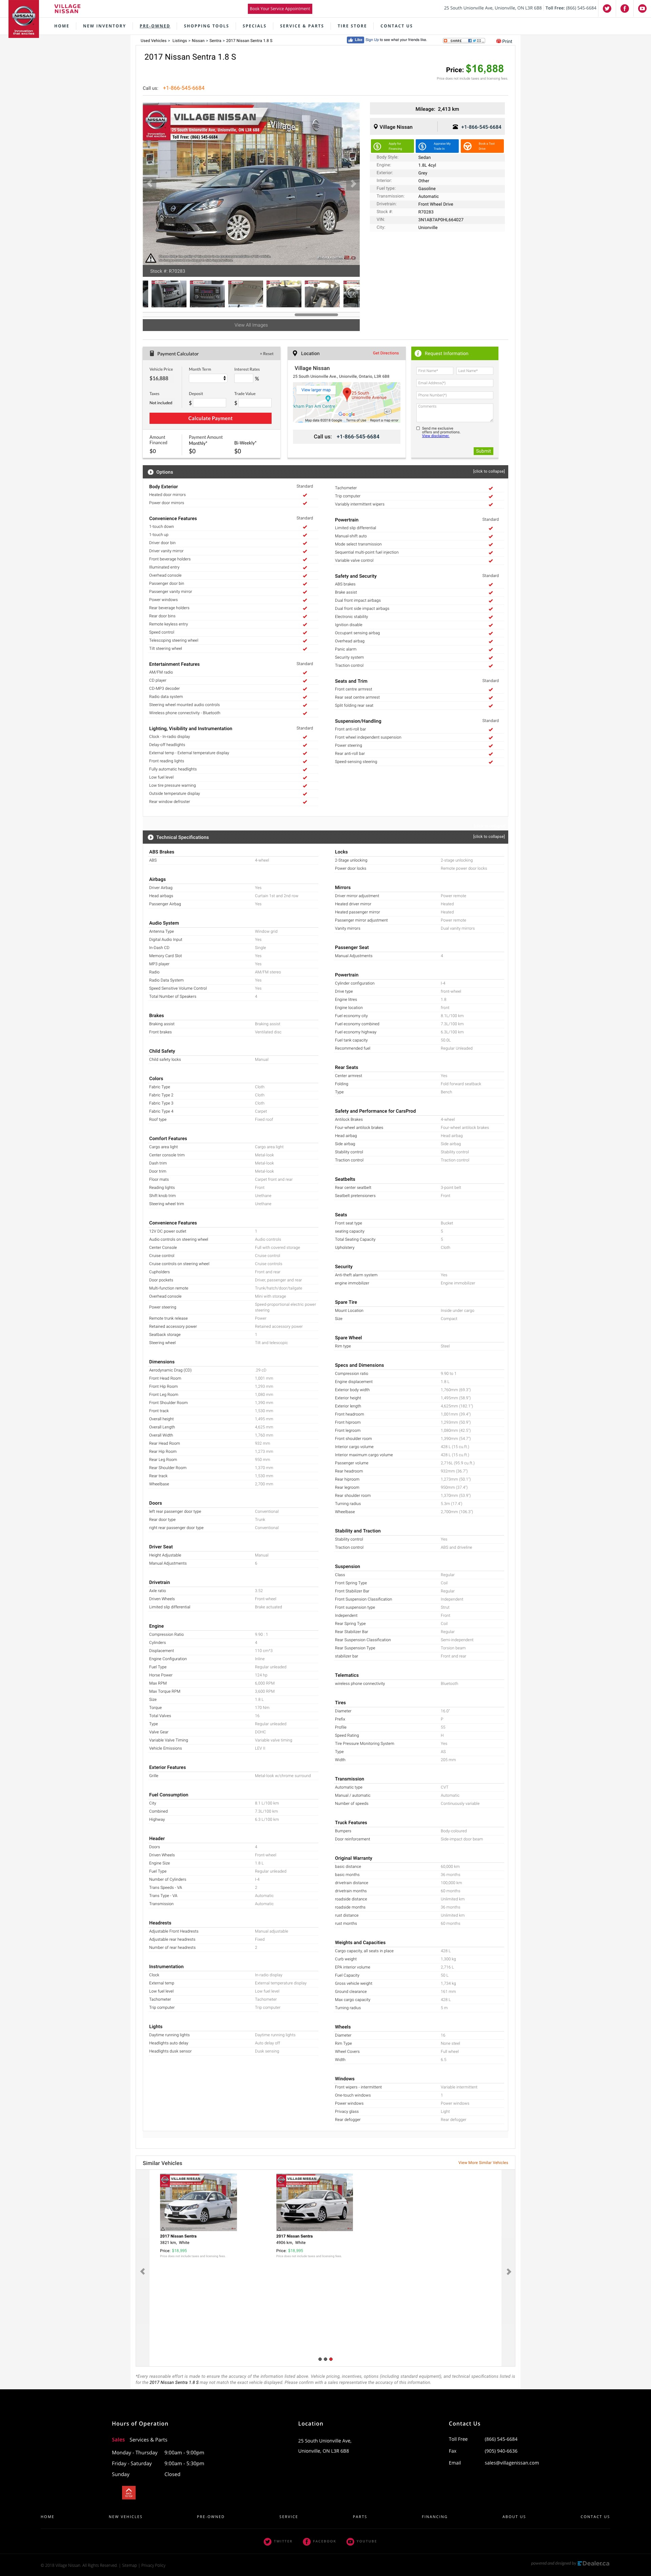car: (345, 174, 362, 192)
